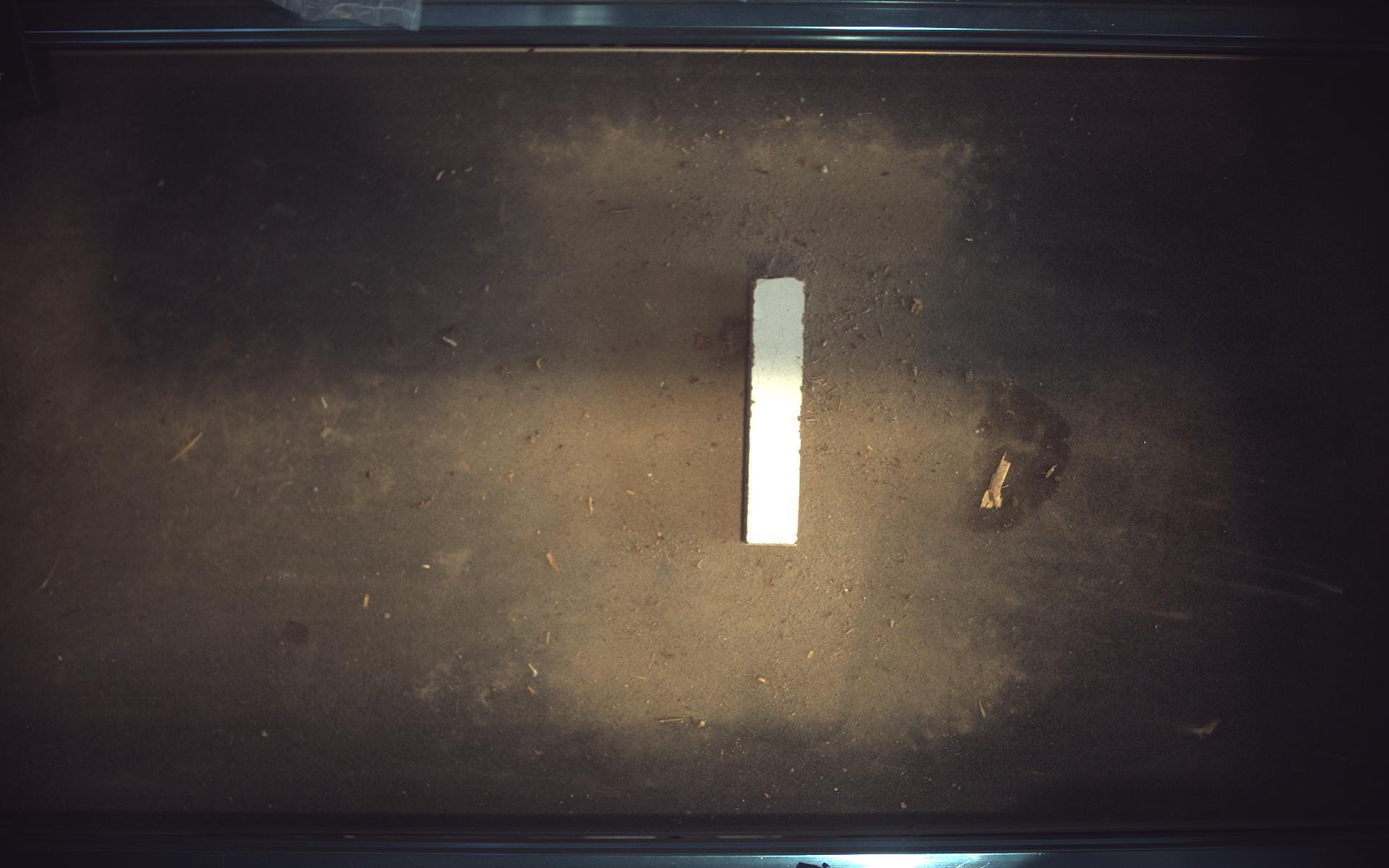wood: (745, 276, 806, 545)
